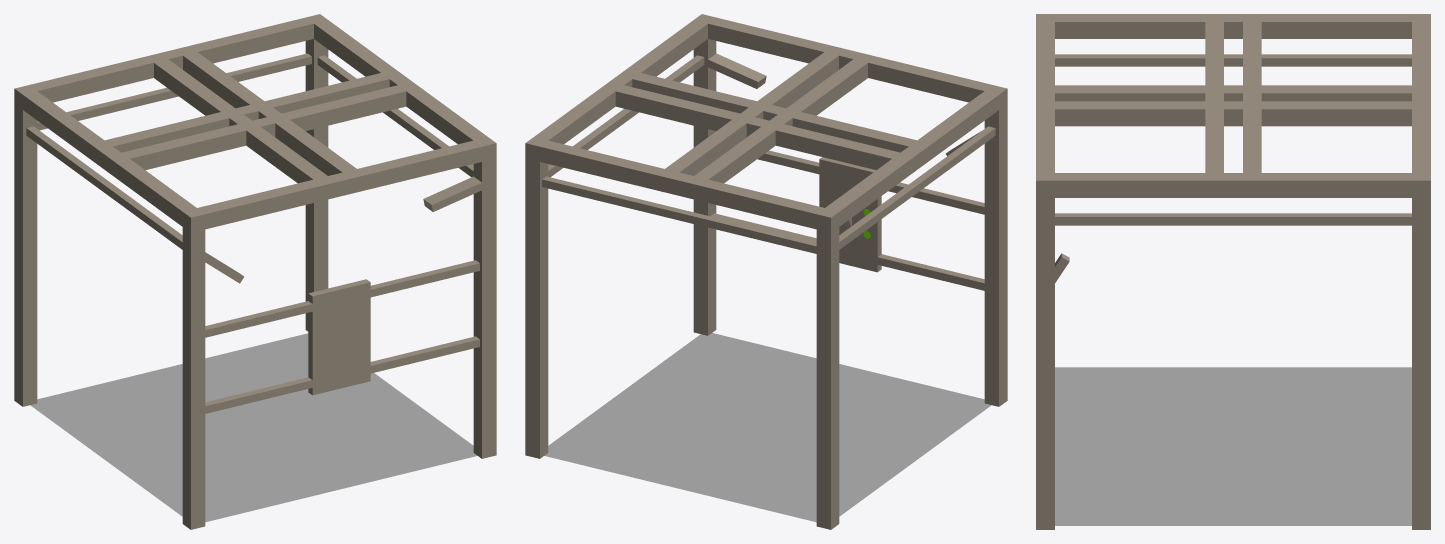
The model's file is Elevator.fbx.
3 views of the same model, side by side, from view 1: azimuth 30°, elevation 25°; view 2: azimuth 150°, elevation 25°; view 3: azimuth 270°, elevation 25° (orthographic). The views are drawn at different scales.
Parts seen in each view (by area): view 1: Elevator1, Cube__6_, Cube__4_, Cube__7_, Cube__11_, Cube__12_, Cube__10_, Cube__23_, Cube__9_, Cube__15_, Cube__5_, Cube__13_ (+8 smaller); view 2: Elevator1, Cube__7_, Cube__8_, Cube__10_, Cube__6_, Cube__13_, Cube__11_, Cube__9_, Cube__12_, Cube__14_, Cube__5_, Cube__15_ (+8 smaller); view 3: Elevator1, Cube__5_, Cube__15_, Cube__9_, Cube__4_, Cube__8_, Cube__14_, Cube__19_, Cube__18_, Cube__11_, Cube__13_, Cube__12_ (+1 smaller).
Part boxes in pixels (x1,y1,x2,y2): Elevator1: (30,333,477,522); Cube__6_: (182,223,205,529); Cube__4_: (473,151,496,458); Cube__7_: (14,99,37,406); Cube__11_: (182,137,494,232); Cube__12_: (107,82,417,174); Cube__10_: (14,14,323,106); Cube__23_: (308,279,370,395); Cube__9_: (14,85,204,232); Cube__15_: (175,46,365,193); Cube__5_: (306,14,496,161); Cube__13_: (90,71,400,161); Elevator1: (544,333,991,522); Cube__7_: (816,222,839,529); Cube__8_: (525,158,548,458); Cube__10_: (525,137,838,232); Cube__6_: (984,96,1007,406); Cube__13_: (607,82,914,177); Cube__11_: (694,14,1007,109); Cube__9_: (816,85,1007,232); Cube__12_: (620,69,931,164); Cube__14_: (685,53,875,200); Cube__5_: (525,14,715,146); Cube__15_: (657,47,846,177); Elevator1: (1055,367,1411,525); Cube__5_: (1036,173,1430,197); Cube__15_: (1036,101,1430,126); Cube__9_: (1036,14,1430,38); Cube__4_: (1036,189,1054,529); Cube__8_: (1412,190,1430,529); Cube__14_: (1036,85,1430,101); Cube__19_: (1055,213,1411,225); Cube__18_: (1055,54,1411,66); Cube__11_: (1036,14,1054,197); Cube__13_: (1243,14,1261,197); Cube__12_: (1205,14,1223,197).
Bounding box in the file's own units: 2.1 × 2.05 × 2.1.
